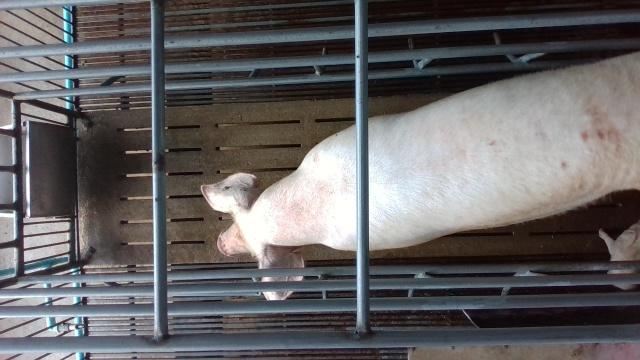piglet: (598, 220, 640, 291)
sow-stand: (199, 48, 640, 300)
